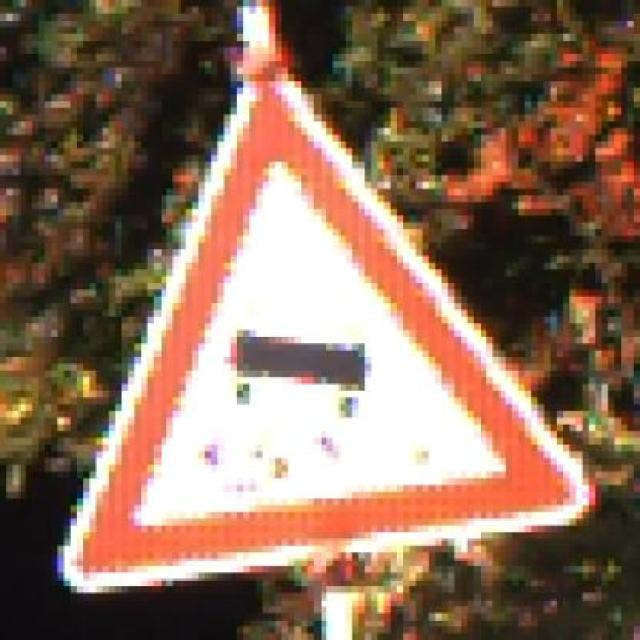Slippery Road Ahead: (50, 75, 608, 593)
